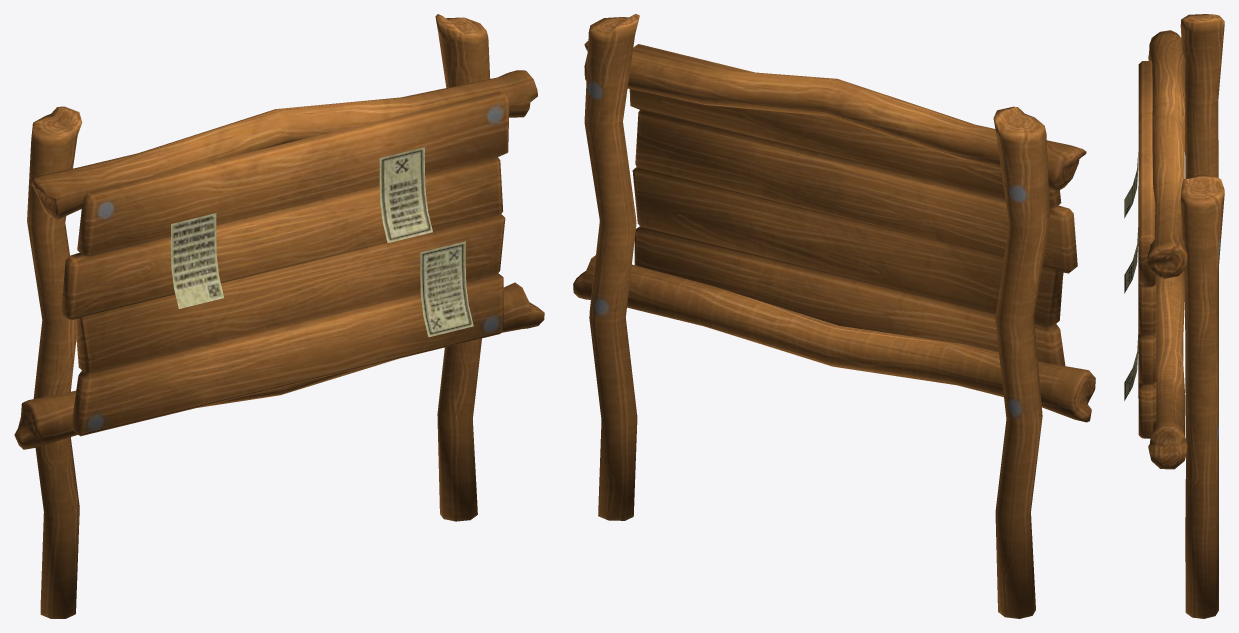
Rendered from SM_Stylized_WantedBoard.glb.
The picture shows the model from 3 angles, left to right: view 1: azimuth 30°, elevation 25°; view 2: azimuth 150°, elevation 25°; view 3: azimuth 270°, elevation 25°; orthographic projection. The views are drawn at different scales.
Visible parts, largest first — view 1: SM_Stylized_WantedBoard; view 2: SM_Stylized_WantedBoard; view 3: SM_Stylized_WantedBoard.
Boxes of the visible parts, x1,y1,x2,y2 form: SM_Stylized_WantedBoard: (14, 14, 544, 618); SM_Stylized_WantedBoard: (573, 14, 1095, 618); SM_Stylized_WantedBoard: (1124, 14, 1224, 618).
Bounding box in the file's own units: 2.14 × 1.98 × 0.4188.
Materials: 1 (1 with a texture image).
